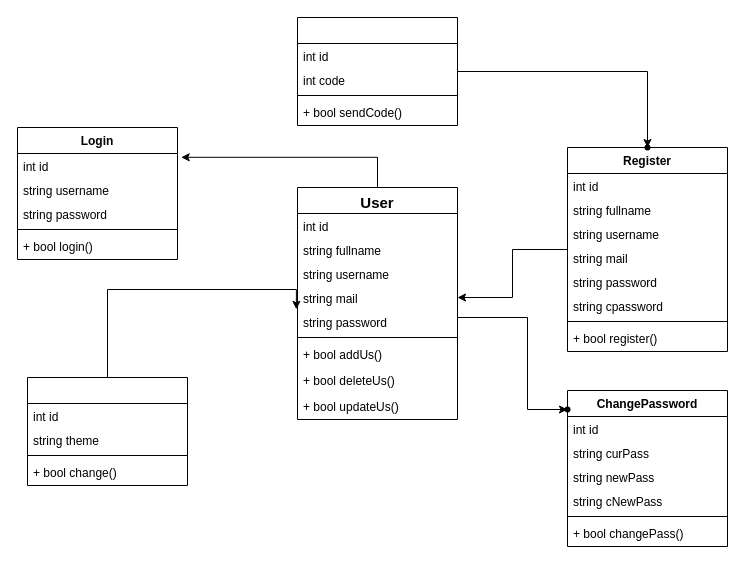
This 745x567 diagram has some shape labels left out. Each missing label, with the box of its shape:
Settings: (26, 376, 188, 486)
SMS: (296, 16, 458, 126)
